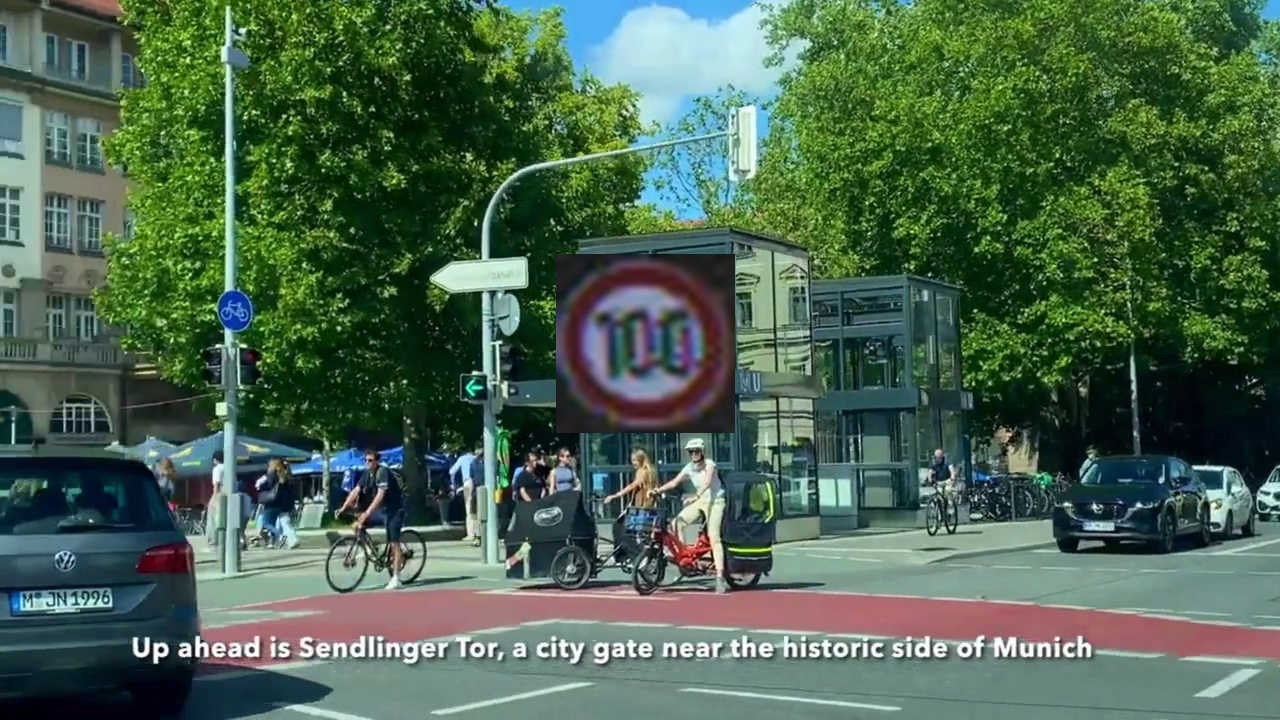Speed 100: (556, 254, 735, 433)
